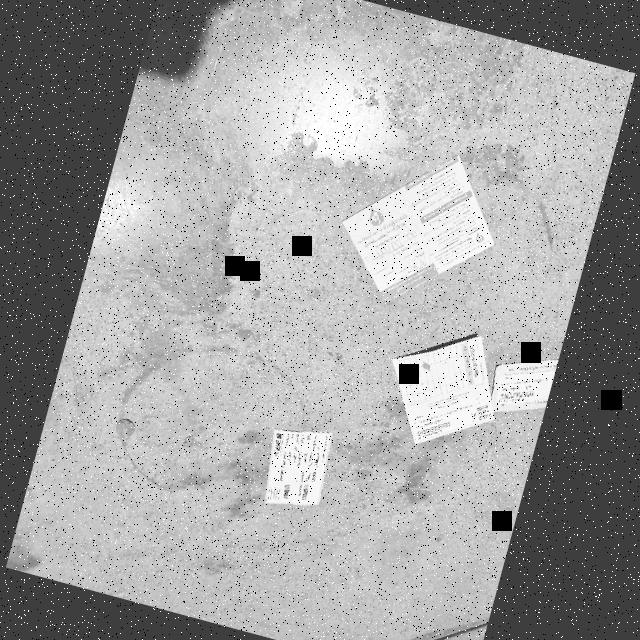scrap_paper: (327, 133, 518, 328), (369, 316, 516, 466), (246, 408, 350, 520), (486, 348, 556, 421)
